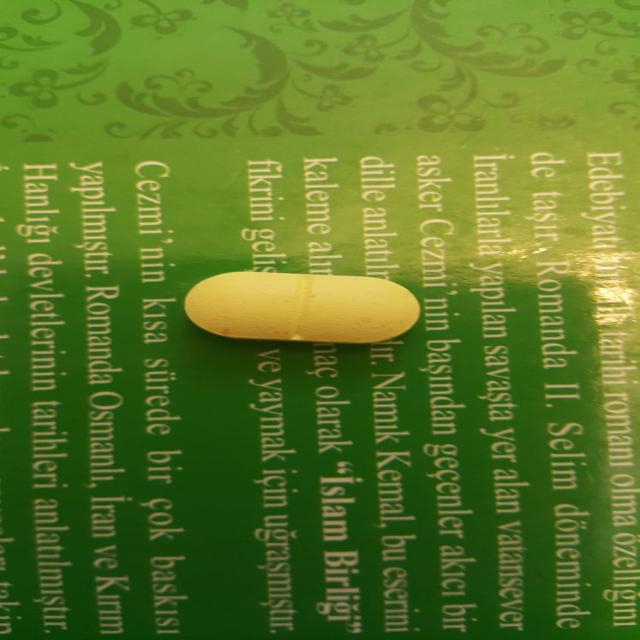pills: (178, 266, 430, 347)
